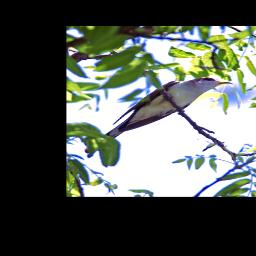Cuckoo: (84, 77, 233, 154)
